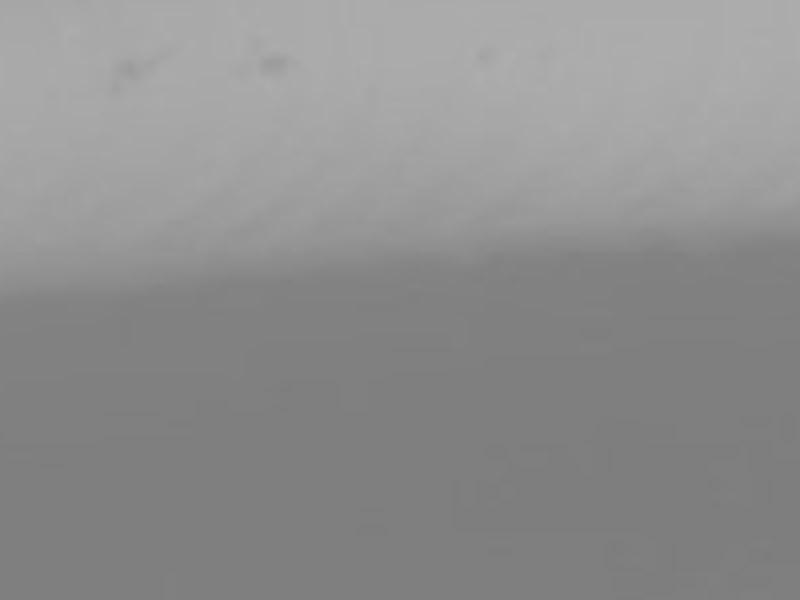defect: (260, 49, 291, 79), (114, 54, 143, 78), (471, 44, 498, 63)
